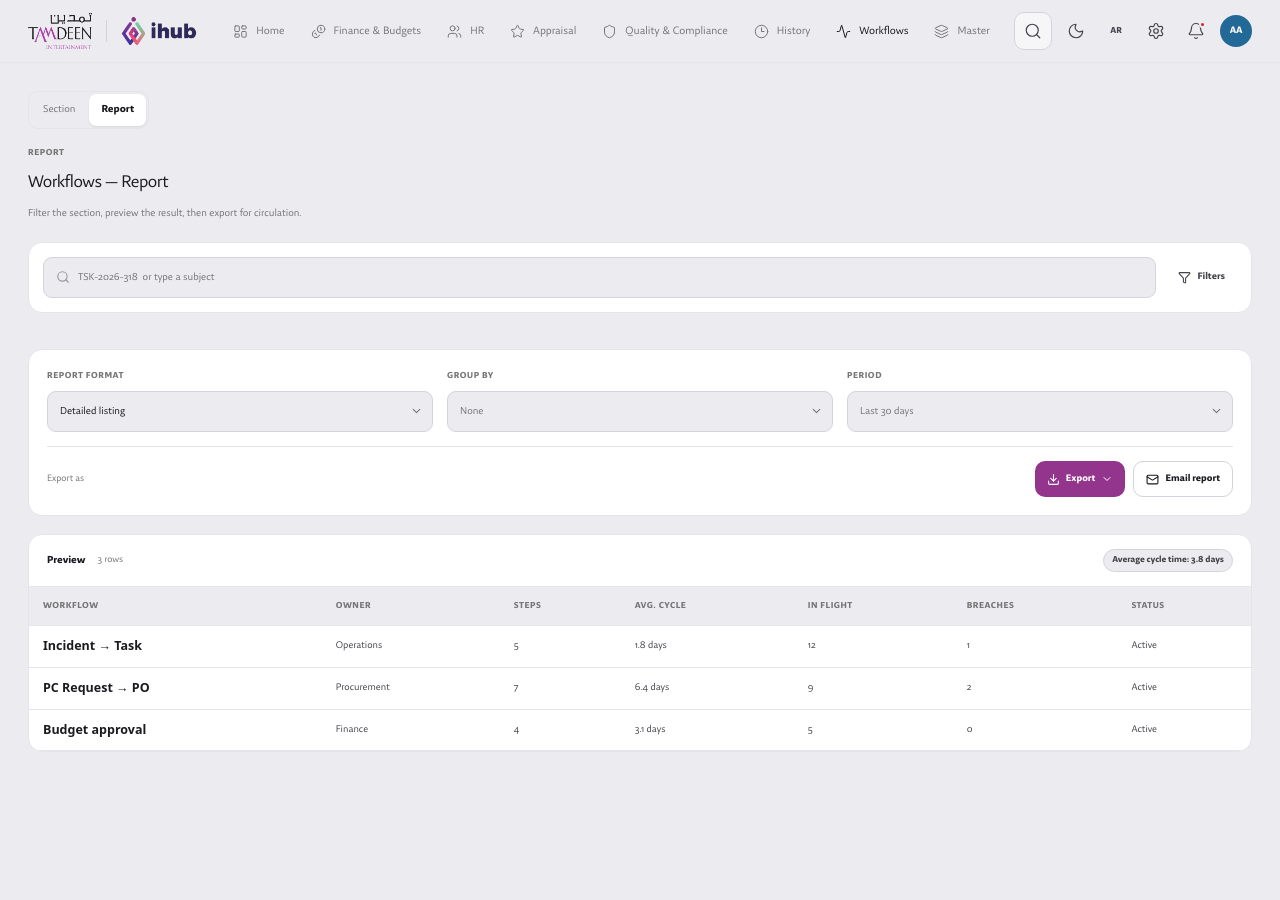
Test: Workflows route › retains SectionLayout report mode and returns to the workflow screen
Expected: the heading "Workflows — Report" is shown, [28,172,168,194]
Click the button "Section": (59, 110) [31,94,87,126]
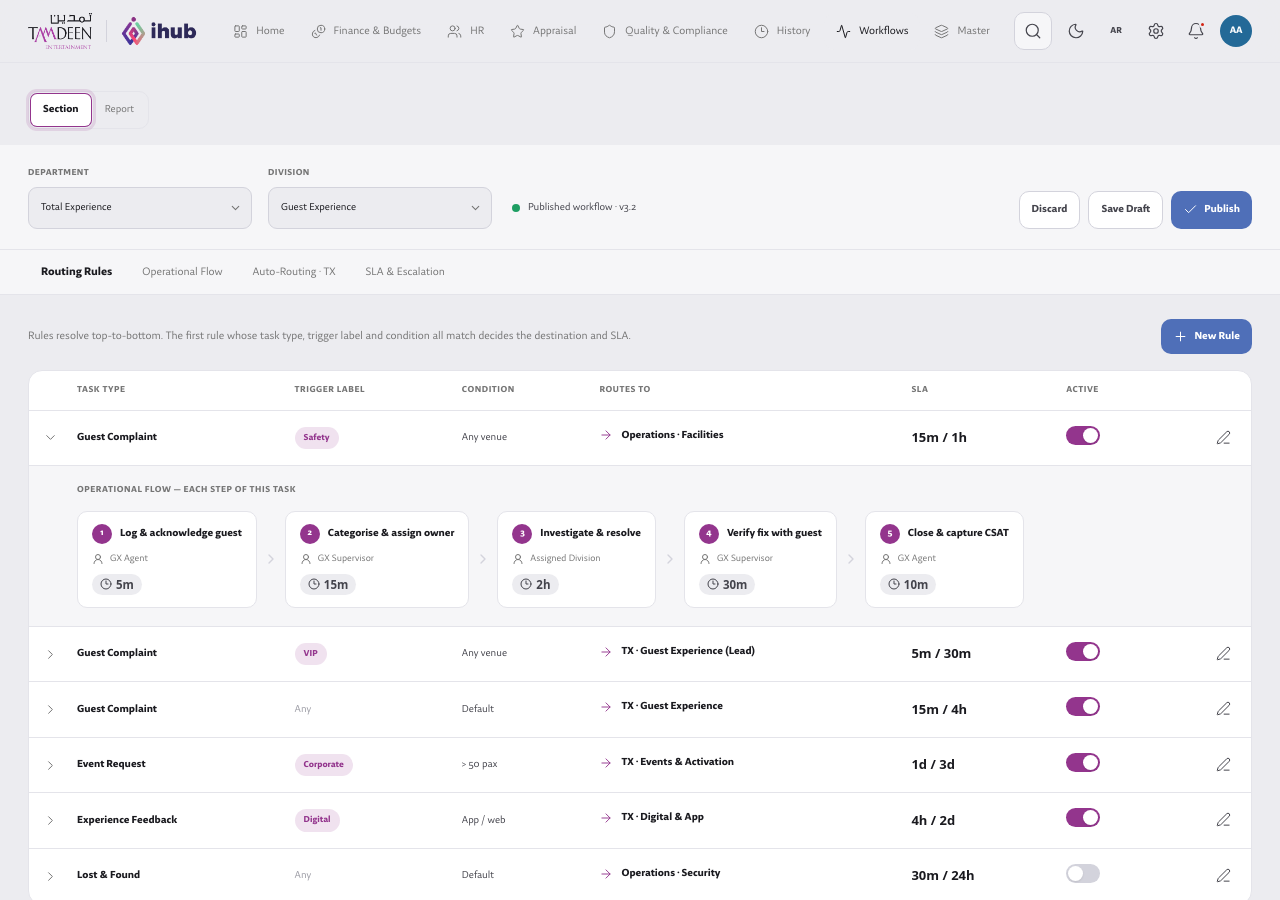
Result: the tab "Routing Rules" is shown at [28,250,125,294]
